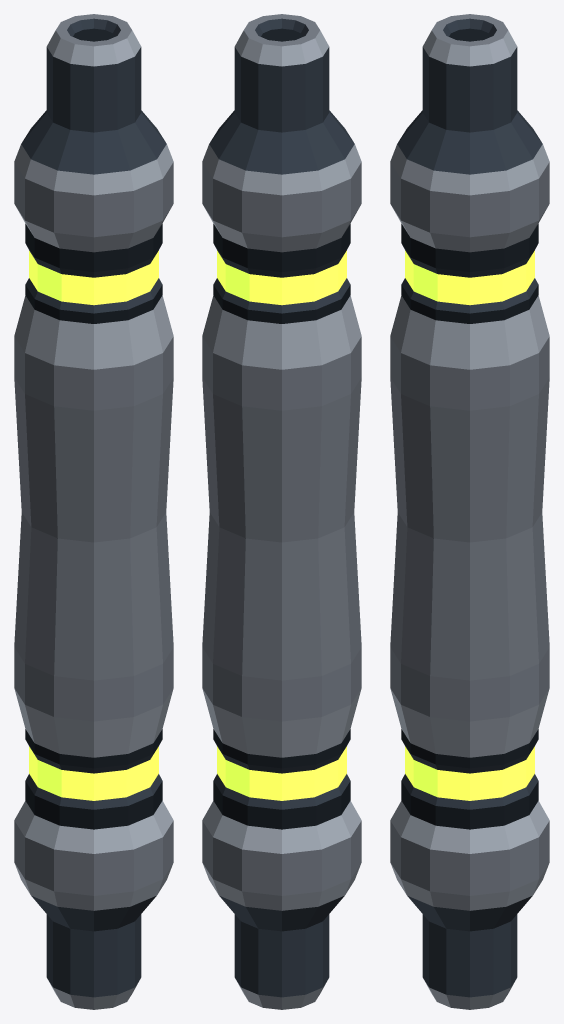
Rendered from player-limb.glb.
The picture shows the model from 3 angles, left to right: view 1: azimuth 30°, elevation 25°; view 2: azimuth 150°, elevation 25°; view 3: azimuth 270°, elevation 25°; orthographic projection.
Visible parts, largest first — view 1: Universal limb link / 2 m; view 2: Universal limb link / 2 m; view 3: Universal limb link / 2 m.
Boxes of the visible parts, left/top/right/bottom form: Universal limb link / 2 m: left=14, top=14, right=173, bottom=1009; Universal limb link / 2 m: left=202, top=14, right=361, bottom=1009; Universal limb link / 2 m: left=390, top=14, right=549, bottom=1009.
Size of the model in its own units: 0.3 by 2 by 0.3.
